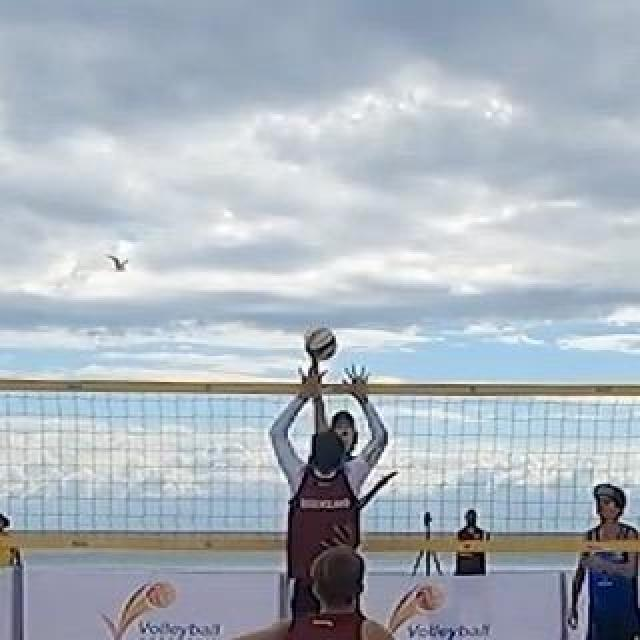volleyball: (307, 331, 335, 361)
